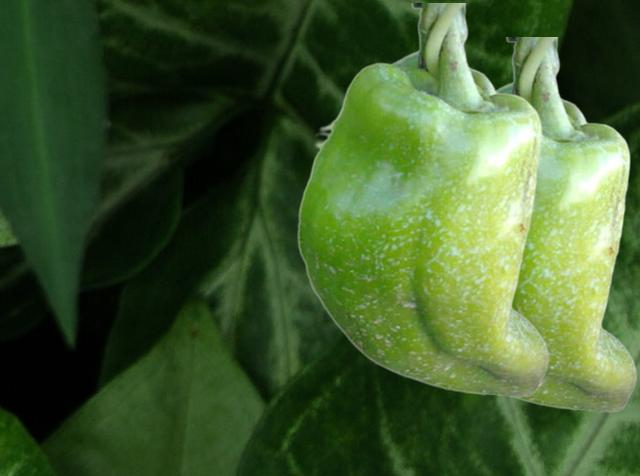bell_pepper: (296, 3, 548, 396), (496, 37, 636, 411)
